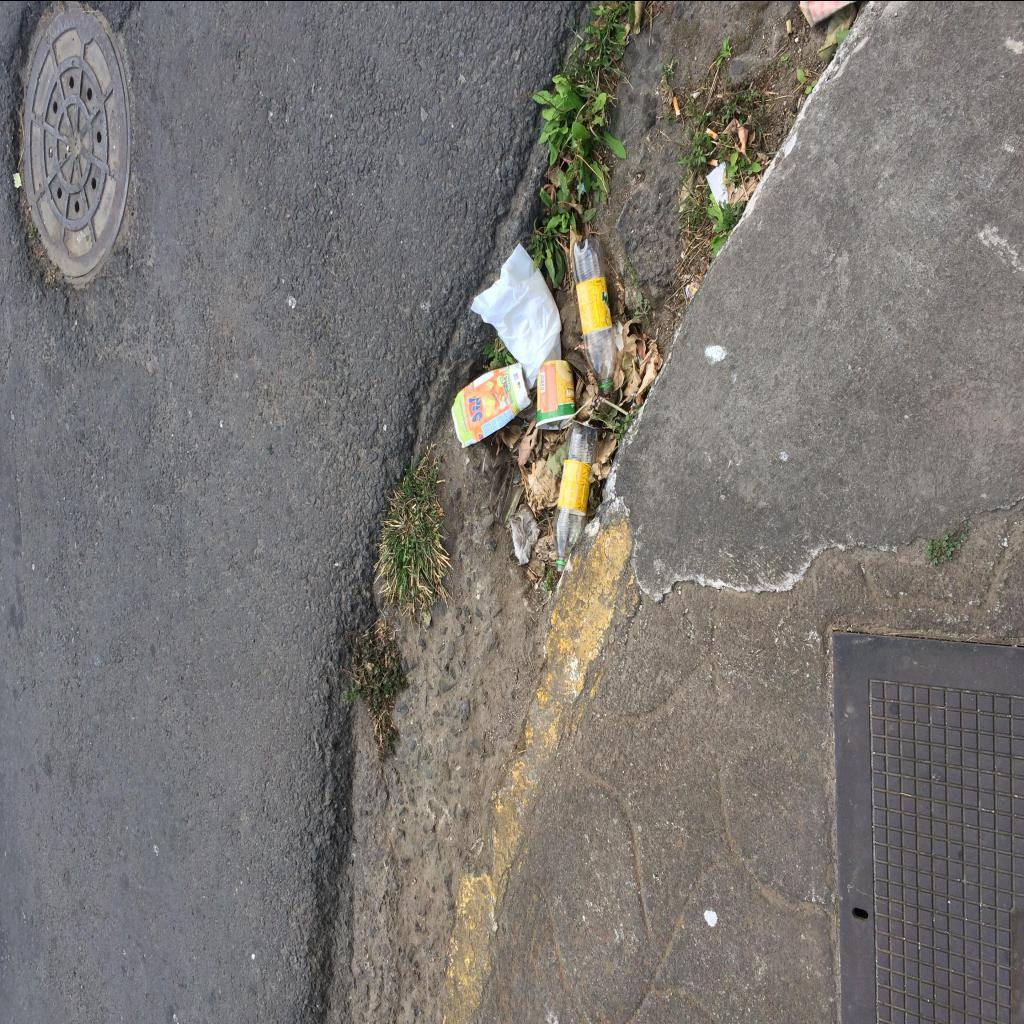Cigarette: (674, 94, 682, 116), (706, 126, 719, 138), (706, 158, 718, 166)
Clear plastic bottle: (571, 236, 617, 396), (552, 420, 598, 572)
Drink carton: (452, 362, 532, 448)
Paper cup: (536, 359, 574, 429)
Plastic film: (470, 242, 562, 388), (512, 504, 541, 564)
Unlabeled litter: (706, 159, 727, 203)
